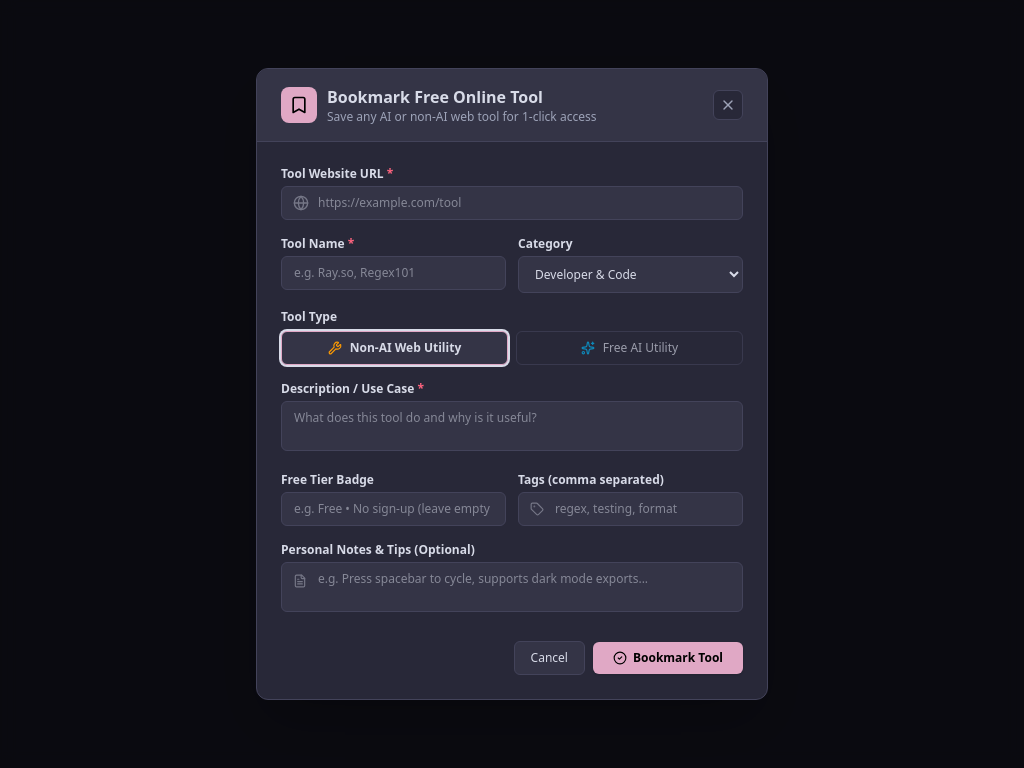
AddBookmarkModal: adding › warns when the link is already bookmarked
The image size is (1024, 768).
Type "Again" into the field with placeholder "e.g. Ray.so, Regex101" at (394, 273), box [281, 256, 506, 290]
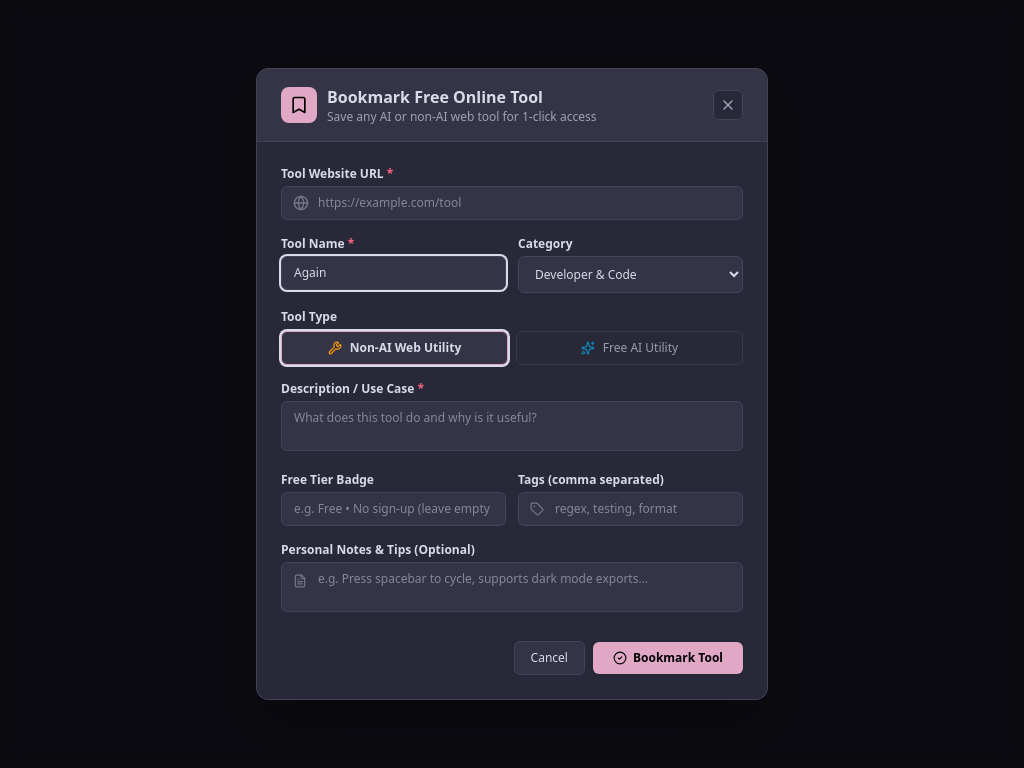
Type "x" into the text box with placeholder "What does this tool do and why is it useful?" at (512, 426), box [281, 401, 743, 451]
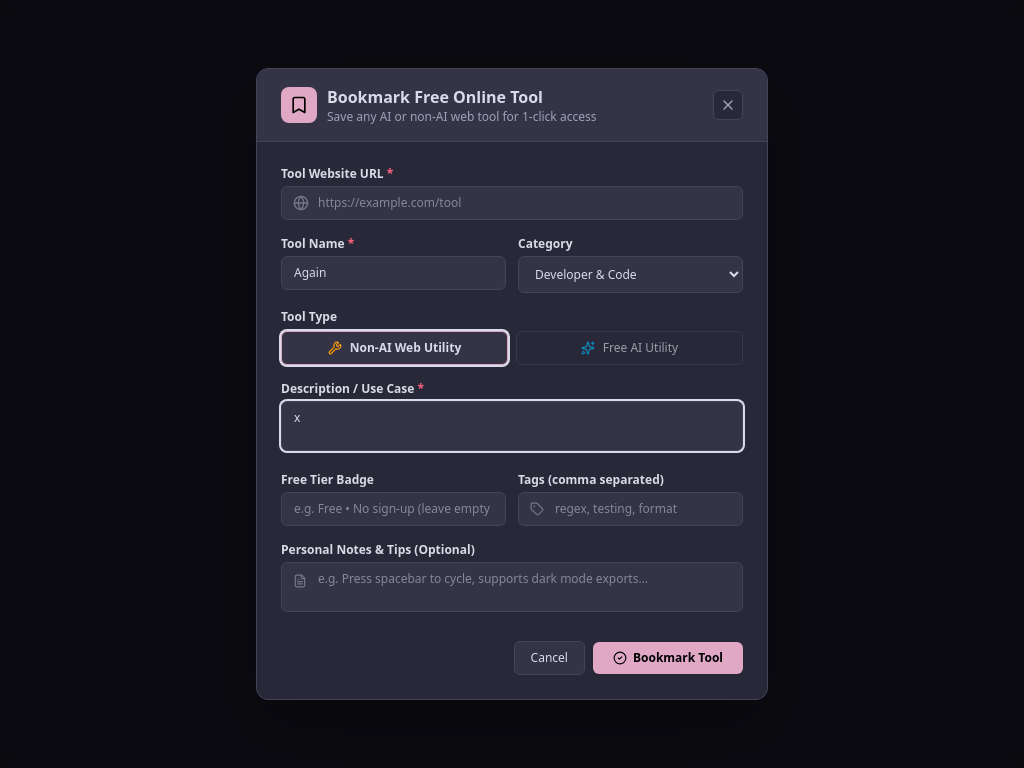
Type "https://JSONCRACK.com/" into the field with placeholder "https://example.com/tool" at (512, 203), box [281, 186, 743, 220]
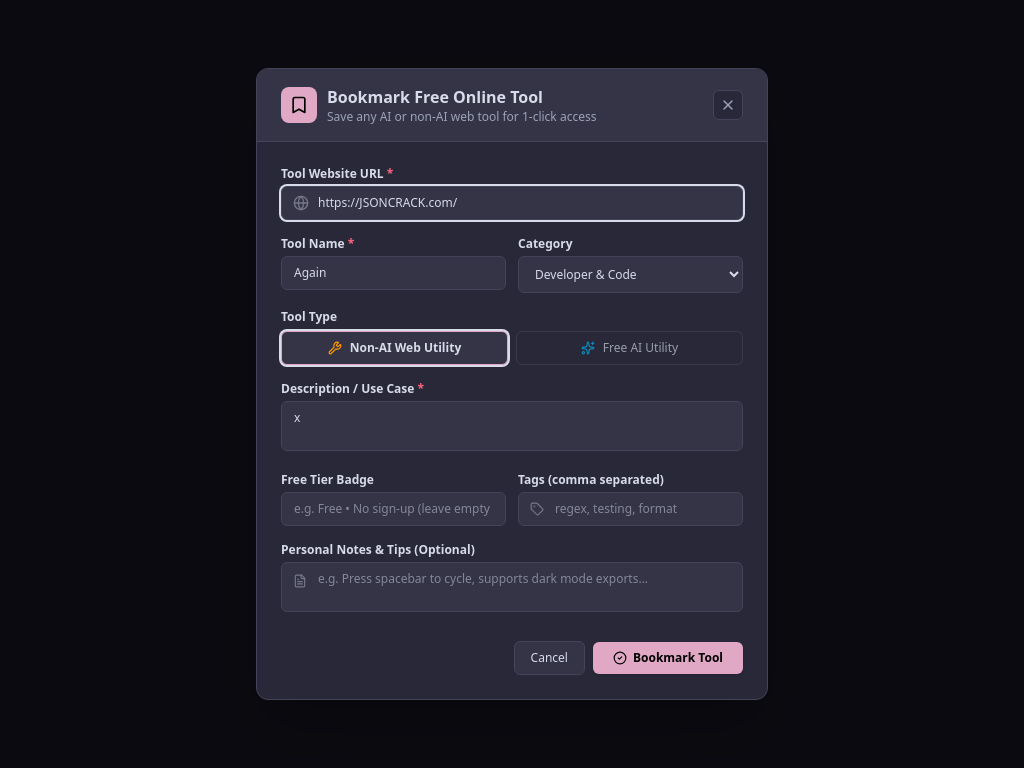
Click the submit button at (668, 658), box [593, 642, 743, 674]
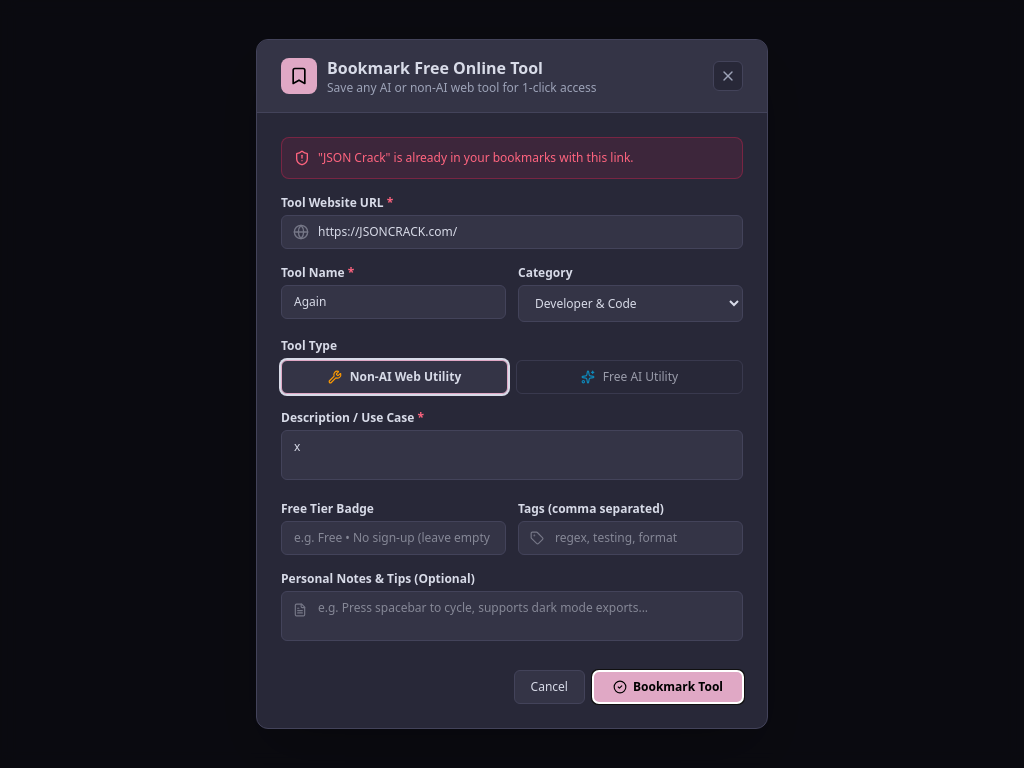
Check: the text "\"JSON Crack\" is already in your bookmarks with this link." is shown, box [318, 150, 634, 166]
